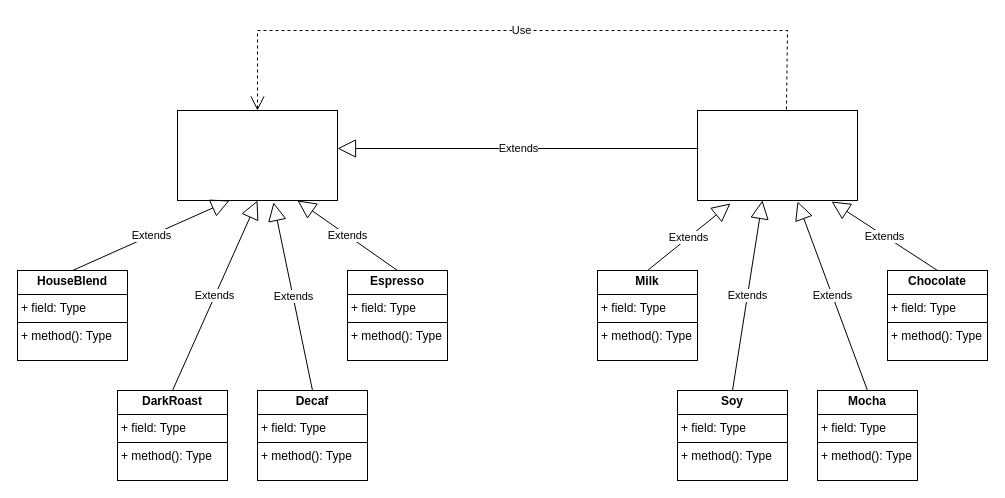
This 1005x498 diagram has some shape labels left out. Each missing label, with the centre of its shape:
abstract Coffee + field: Type + cost(): Type: point (257, 155)
abstract Condiments + field: Type + method(): Type: point (777, 155)
